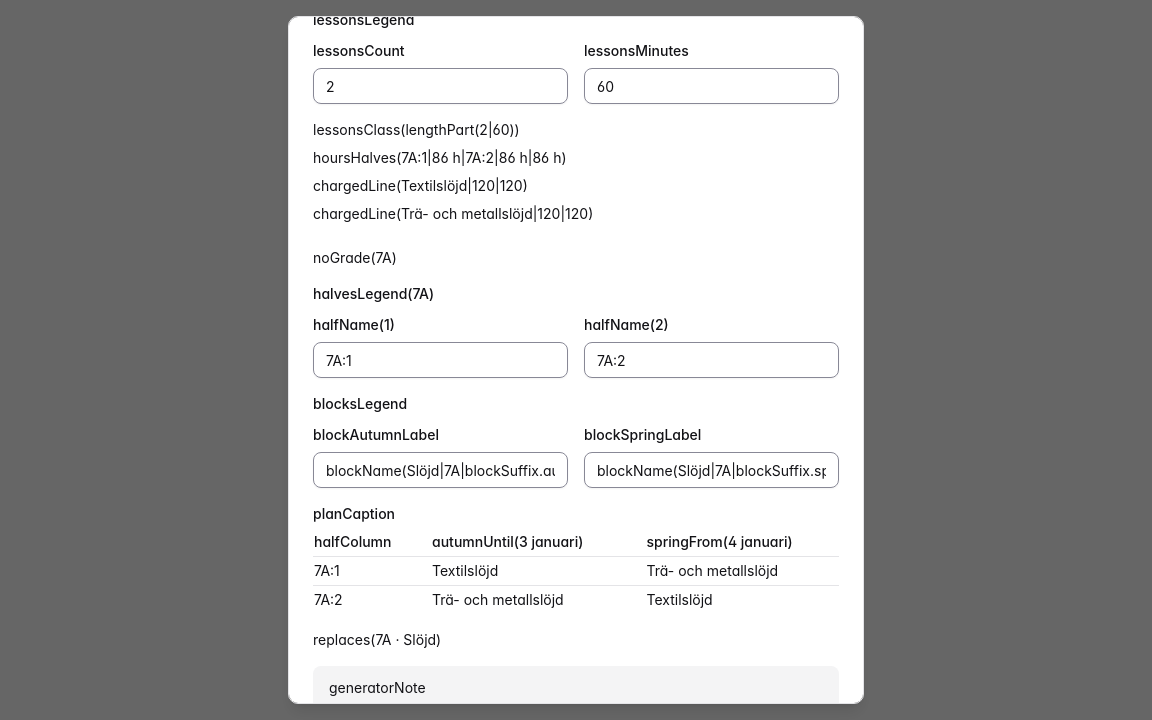
Scenario: TermHalvesDialog › will not send an empty half name, and says why
This screenshot has width=1152, height=720.
(page scrolled)
Clear the field labelled "halfName(2)": x=712, y=360 [584,342,839,378]
(page scrolled)
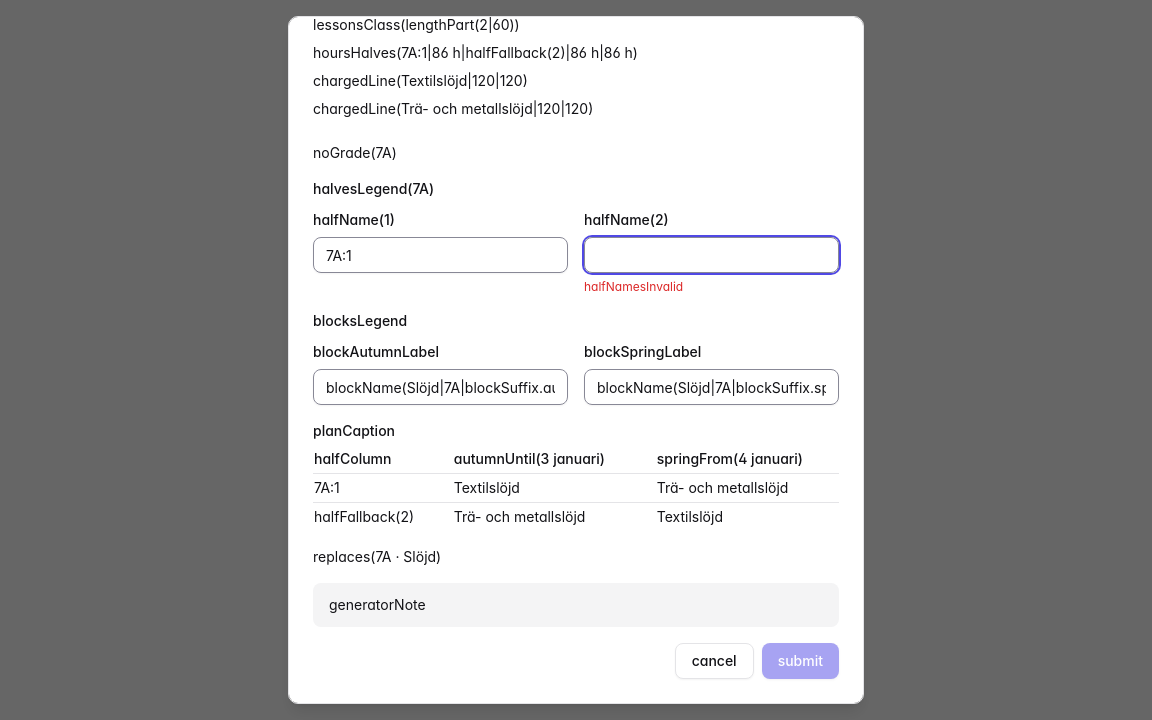
Check: the text "halfNamesInvalid" is shown, box [584,279,683,294]
Check: the button "submit" is disabled, box [762,643,839,679]
